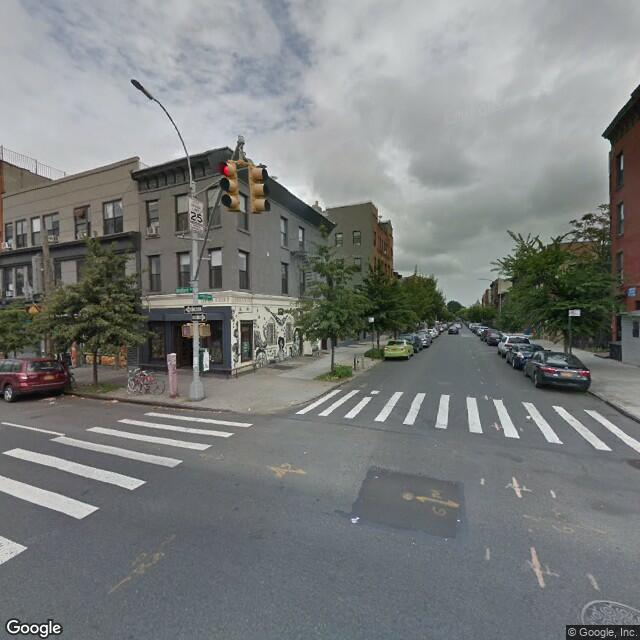litter: (106, 394, 127, 404)
